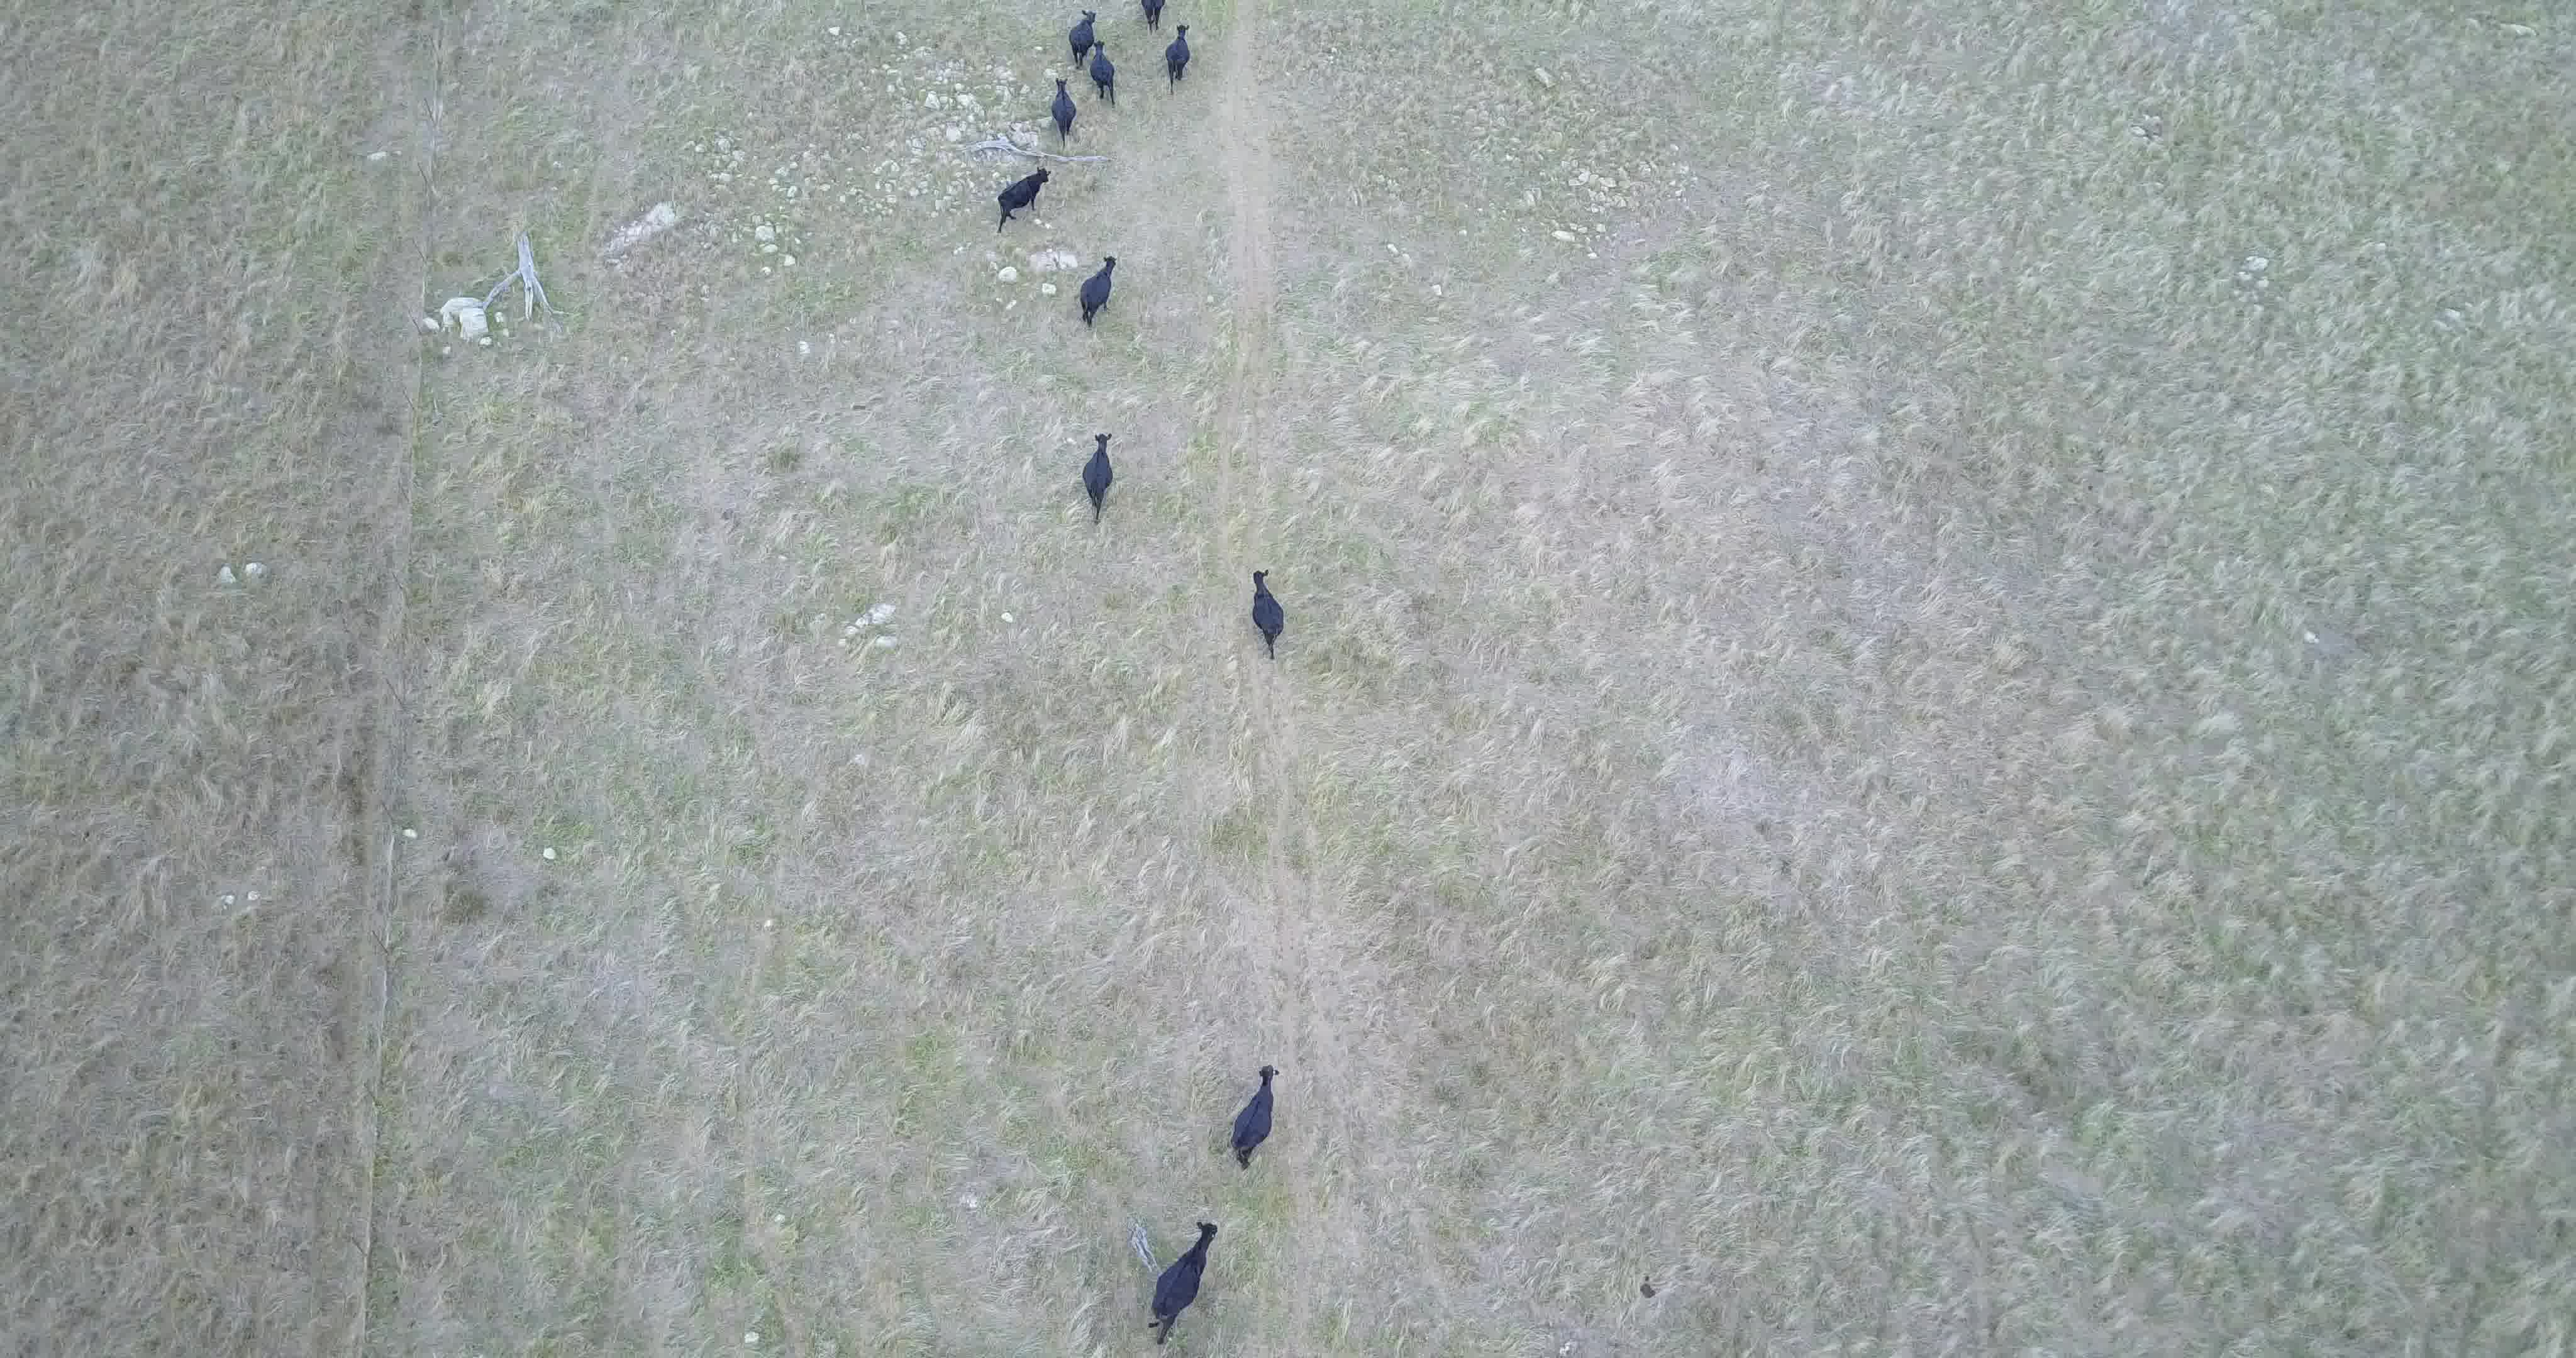cattle: (1141, 1217, 1222, 1351), (1225, 1063, 1285, 1172), (1245, 567, 1290, 663), (993, 165, 1053, 233), (1080, 429, 1121, 525), (1078, 252, 1119, 334), (1162, 24, 1194, 95), (1051, 77, 1078, 150), (1089, 41, 1119, 106), (1067, 10, 1095, 70), (1136, 2, 1167, 36)
